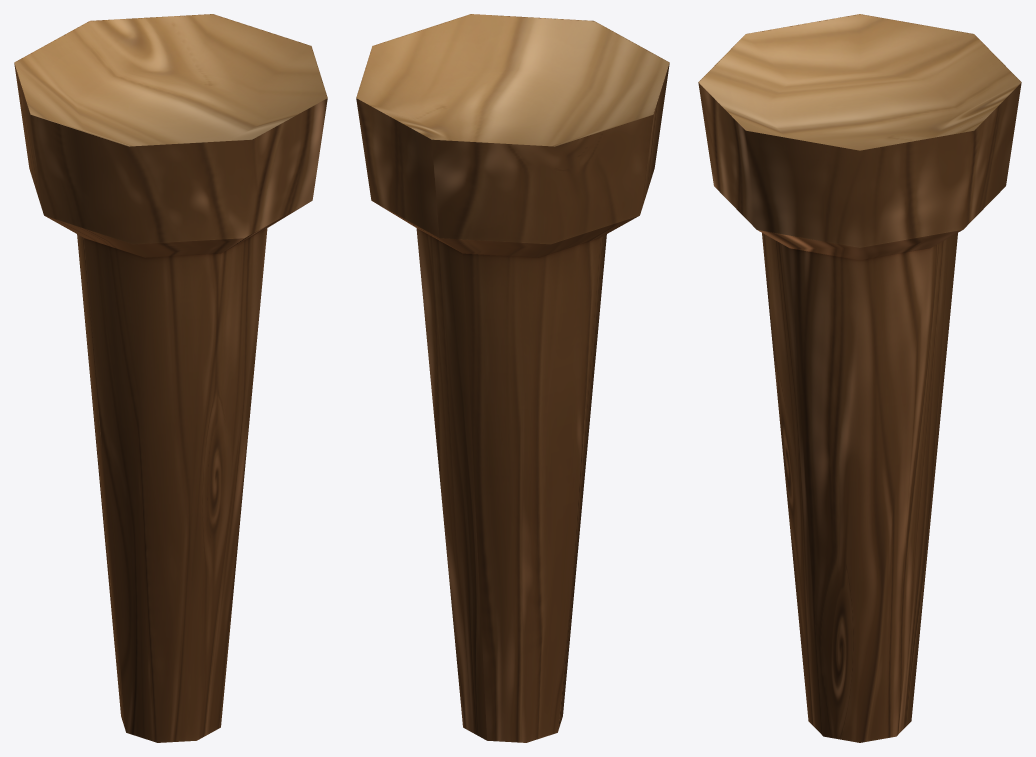
File: Torcher_Model.fbx
3 renders of one model, left to right at view 1: azimuth 30°, elevation 25°; view 2: azimuth 150°, elevation 25°; view 3: azimuth 270°, elevation 25°, orthographic.
Parts seen in each view (by area): view 1: Torcher_Model; view 2: Torcher_Model; view 3: Torcher_Model.
Part boxes in pixels (bbox=[...]): Torcher_Model: bbox=[14, 14, 327, 742]; Torcher_Model: bbox=[356, 14, 669, 742]; Torcher_Model: bbox=[698, 14, 1021, 742].
Bounding box in the file's own units: 0.6909 × 1.51 × 0.6909.
